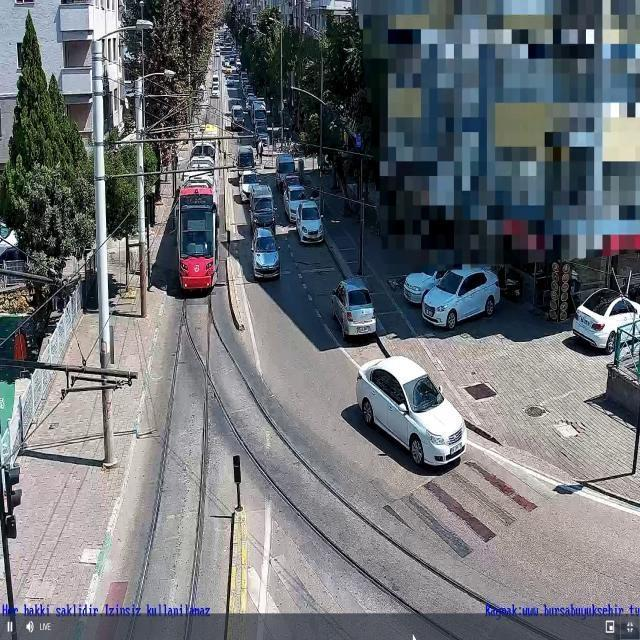Bus: (175, 177, 218, 297)
Car: (354, 355, 465, 467), (422, 267, 501, 329), (571, 288, 638, 353), (330, 280, 378, 339), (404, 266, 454, 306), (251, 228, 280, 280), (295, 202, 325, 244), (283, 183, 308, 222), (238, 170, 262, 203), (282, 174, 302, 197)
Van: (249, 188, 277, 230)
